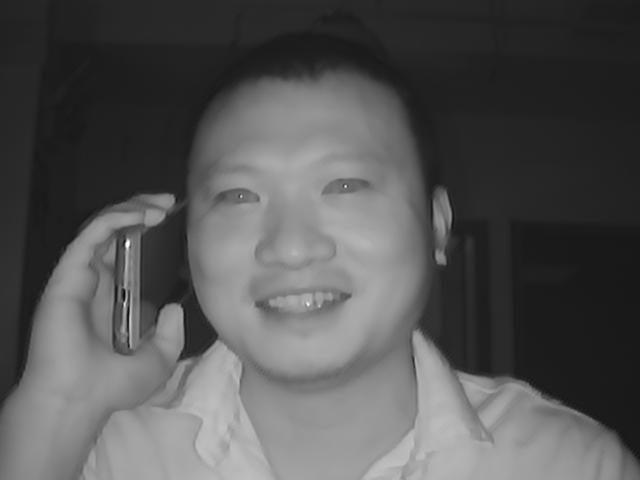hand: (38, 185, 195, 403)
